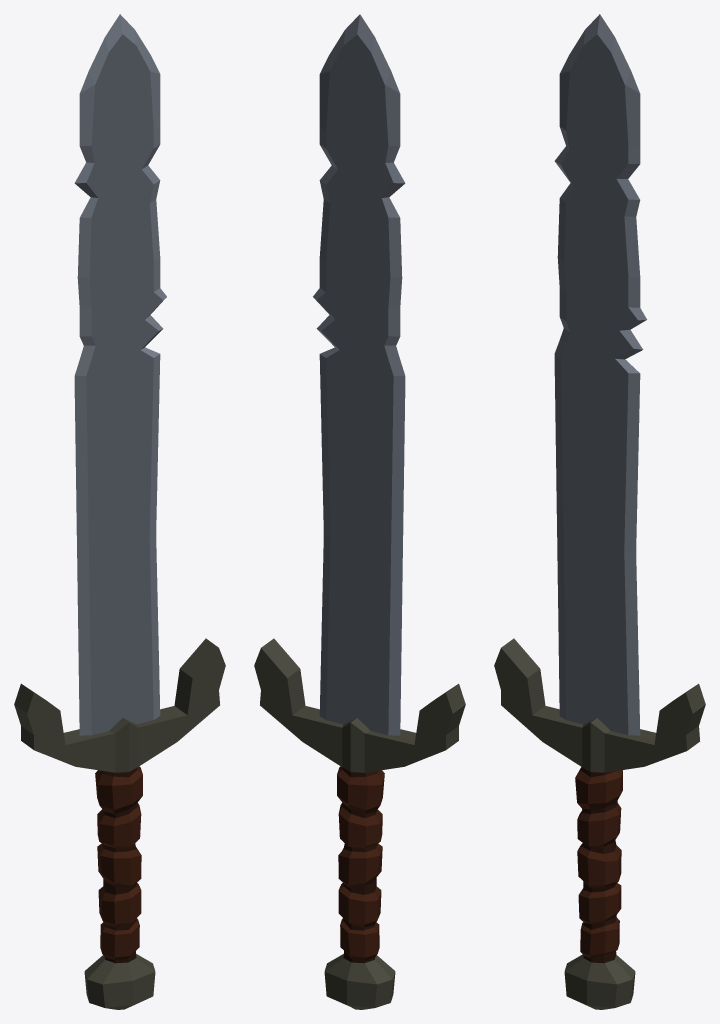
Rendered from Sword.glb.
3 views of the same model, side by side, from view 1: azimuth 30°, elevation 25°; view 2: azimuth 150°, elevation 25°; view 3: azimuth 330°, elevation 25° (orthographic).
Parts seen in each view (by area): view 1: Sword; view 2: Sword; view 3: Sword.
Boxes of the visible parts, x1,y1,x2,y2 form: Sword: (14, 14, 225, 1009); Sword: (254, 14, 465, 1009); Sword: (494, 14, 705, 1009).
Bounding box in the file's own units: 0.2095 × 1 × 0.0479.
